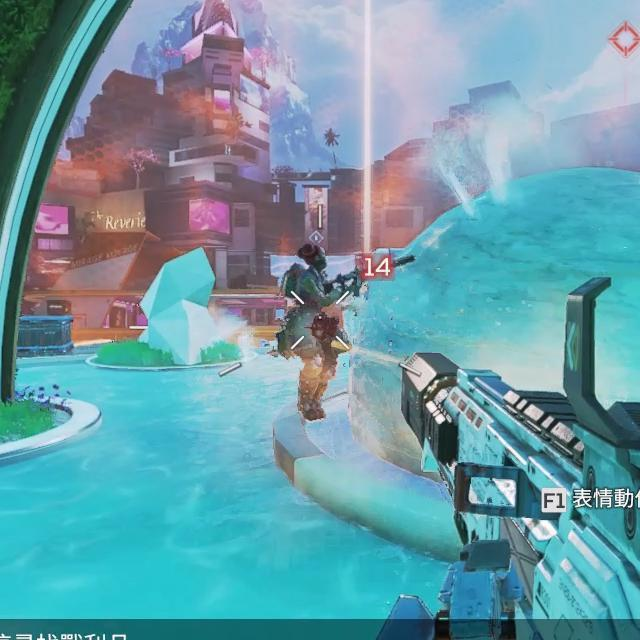avatar: (274, 239, 337, 423)
